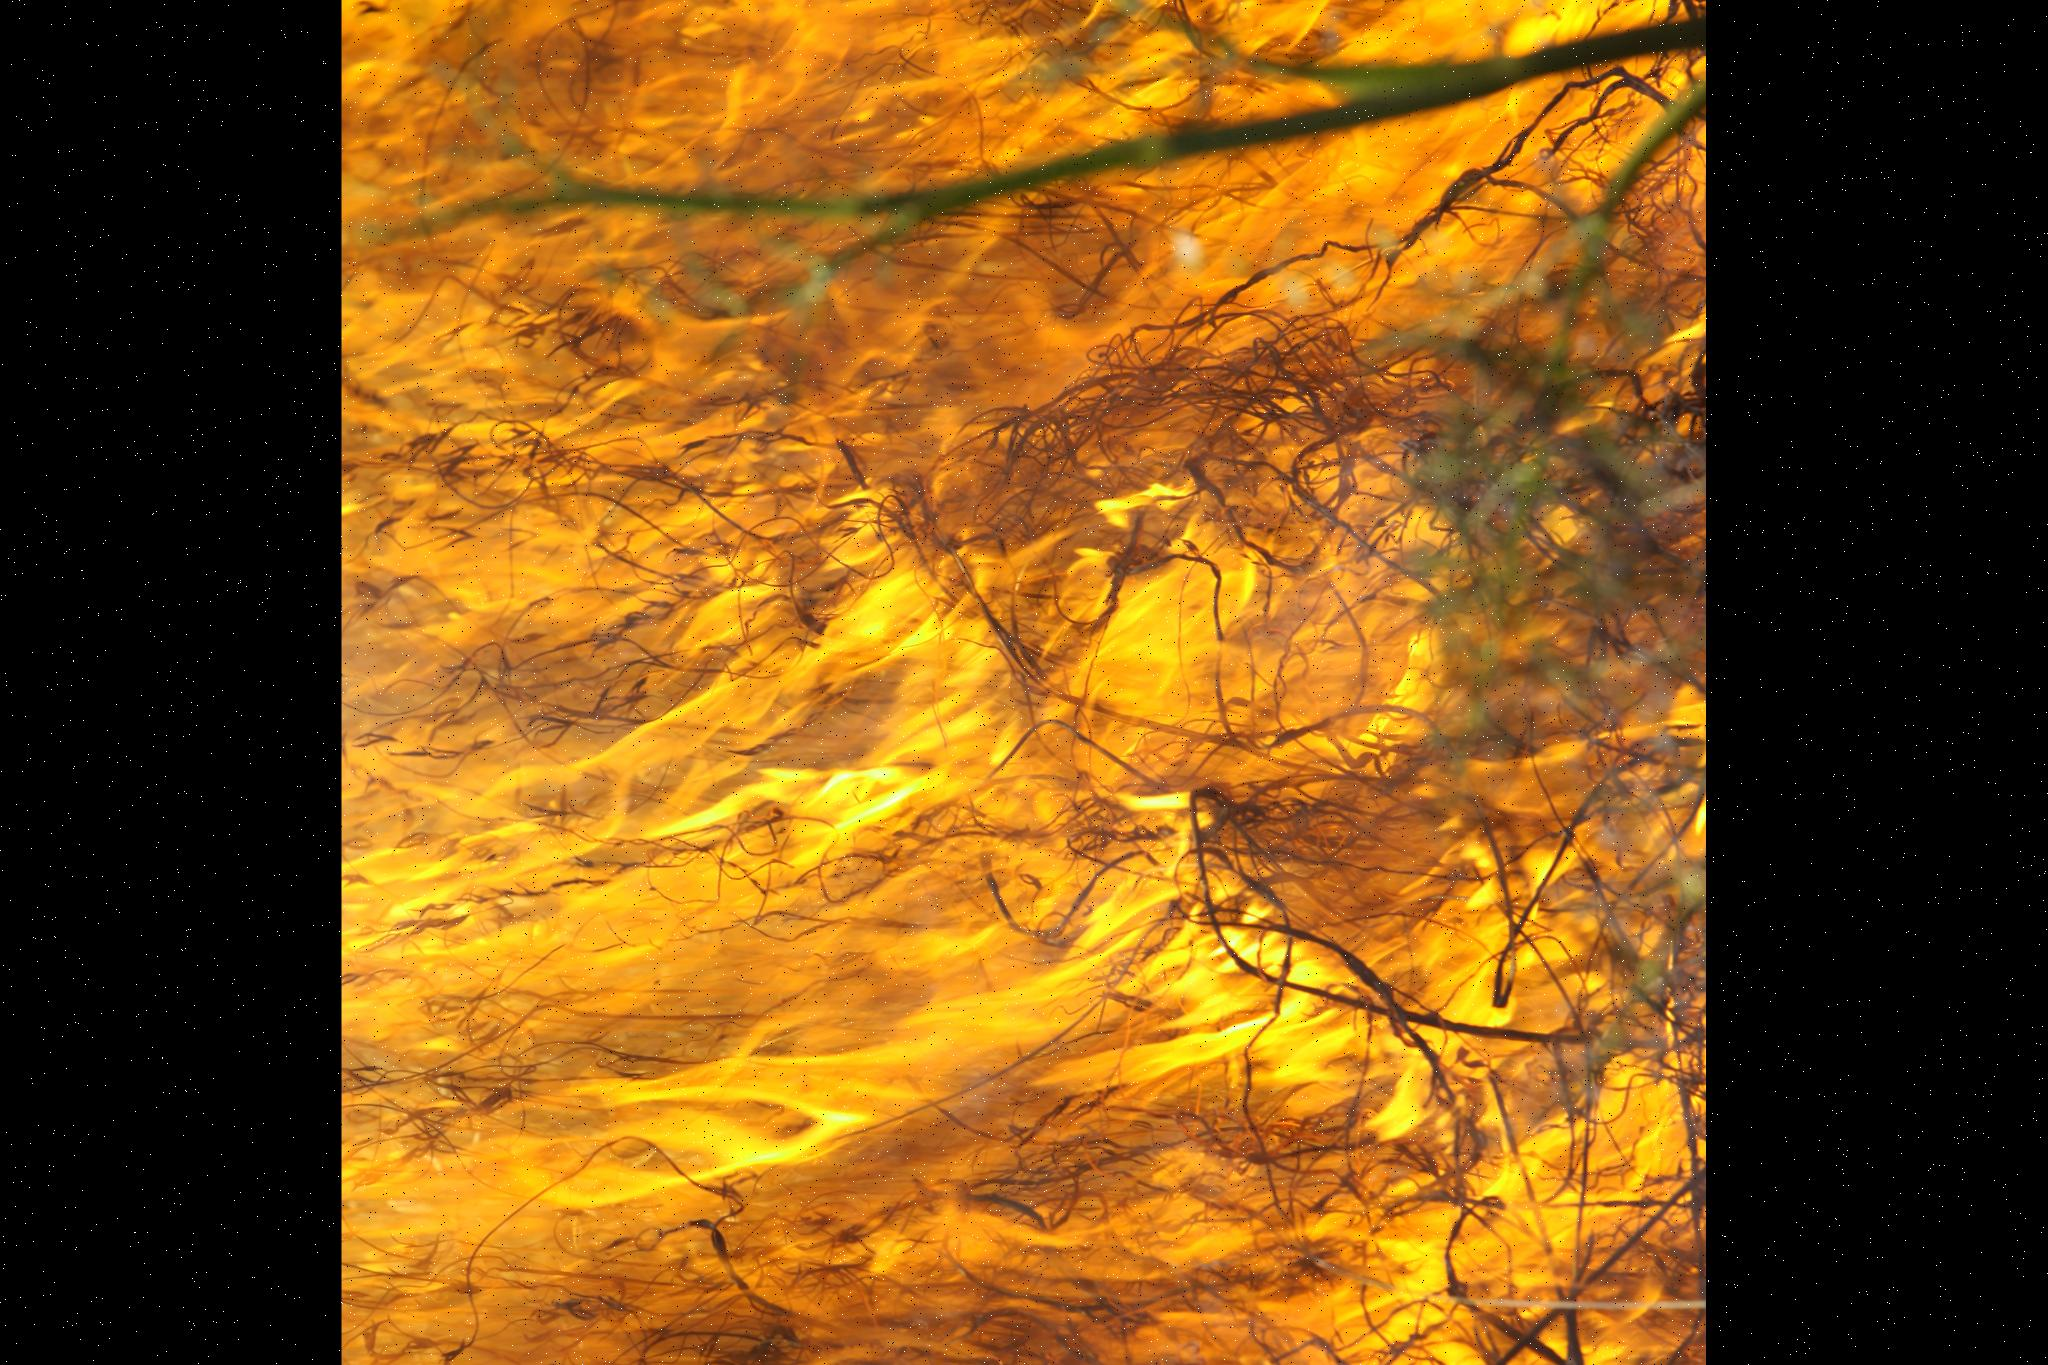fire: (341, 0, 1705, 1365)
